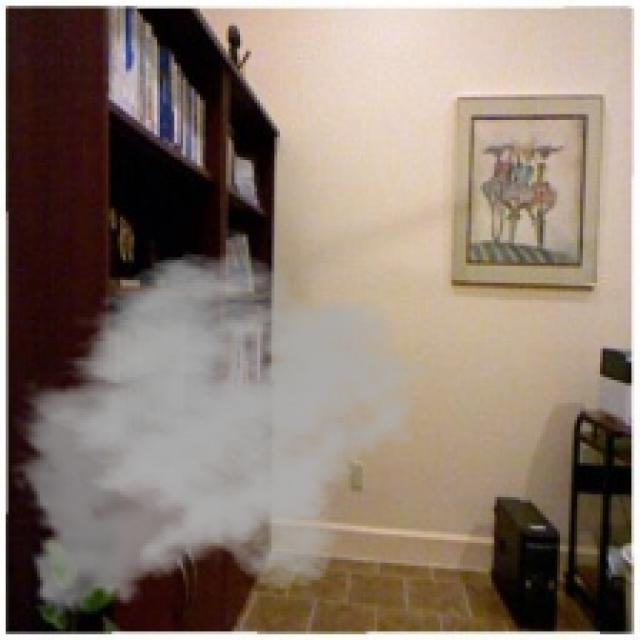smoke: (9, 252, 432, 628)
